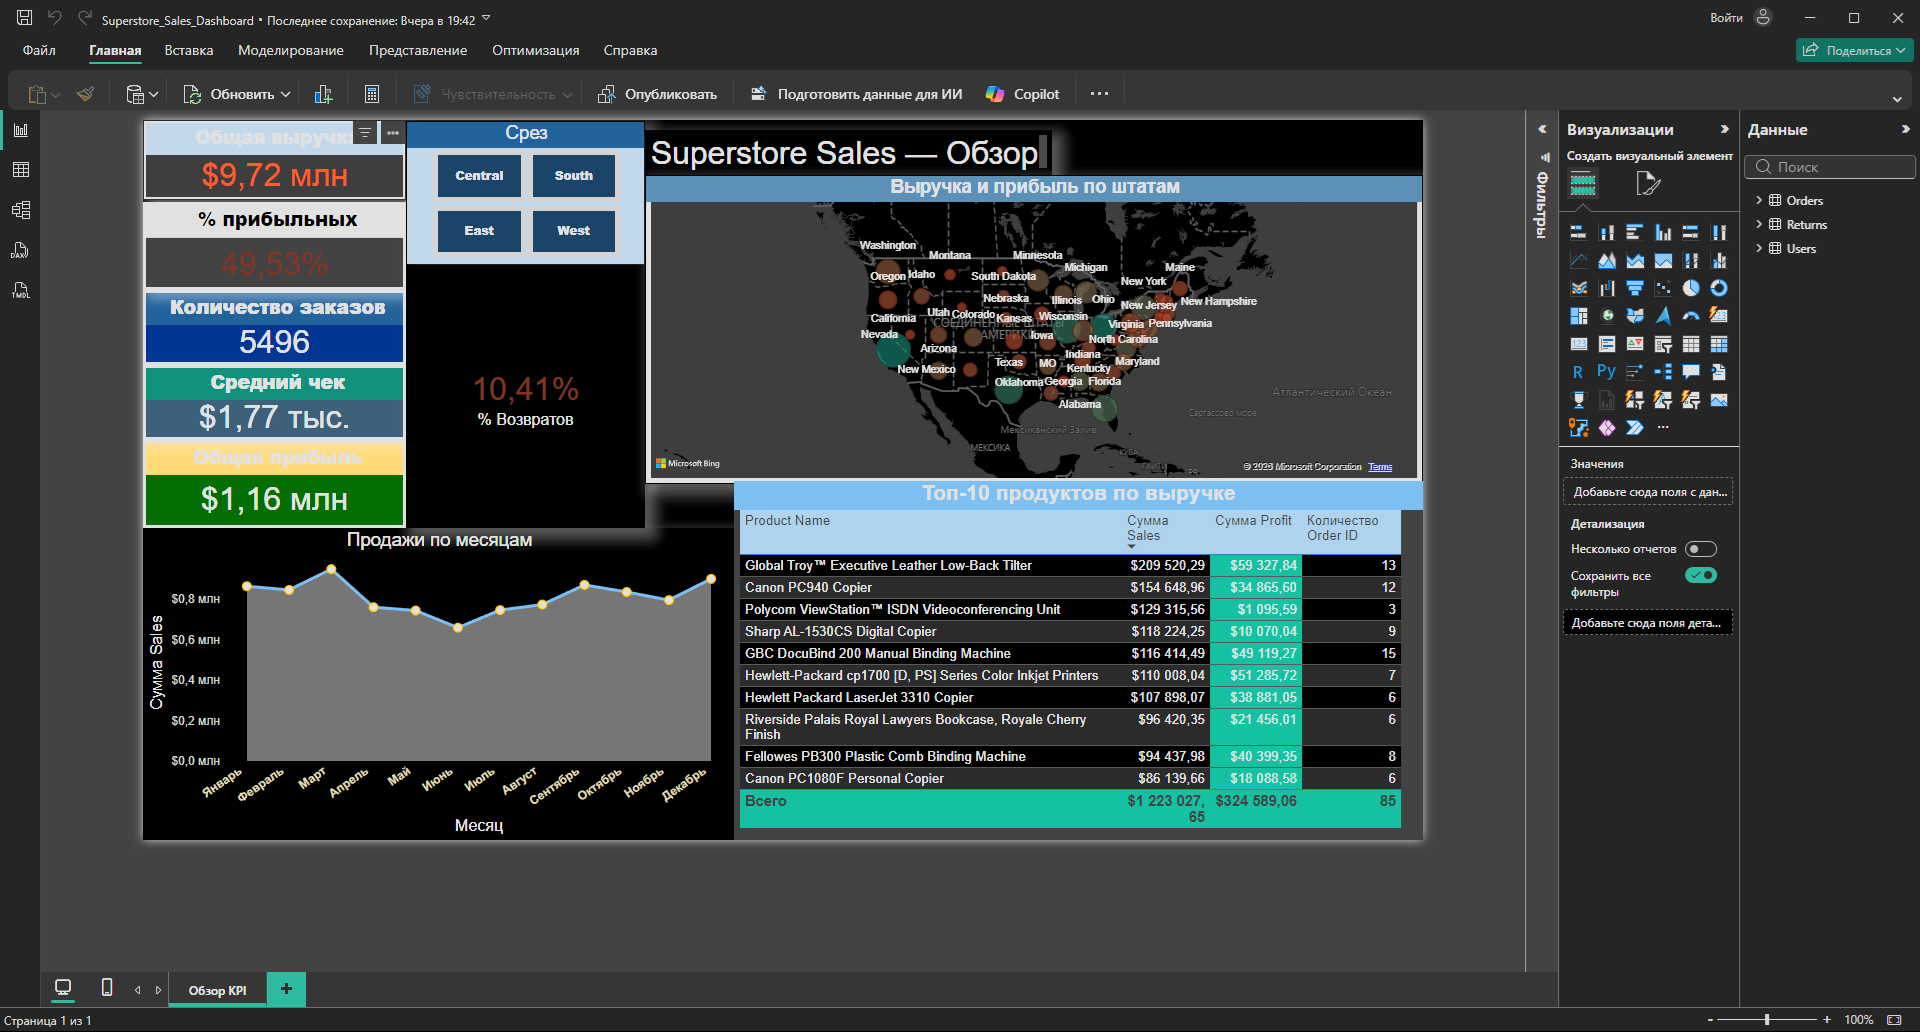

What the dashboard file says about the page in this screenshot:
{"tool":"powerbi","page":{"name":"Обзор KPI","canvas":[1280,720],"ordinal":0},"visuals":[{"type":"card","title":"Общая выручка","fields":{"Values":["Sum(Orders.Sales)"]},"box":[0,0,263,80],"z":0},{"type":"card","title":"Общая прибыль","fields":{"Values":["Sum(Orders.Profit)"]},"box":[0,320,263,88],"z":1000},{"type":"card","title":"Количество заказов","fields":{"Values":["CountNonNull(Orders.Order ID)"]},"box":[0,170,263,75],"z":2000},{"type":"card","title":"% прибыльных","fields":{"Values":["Orders.Мера"]},"box":[0,82,263,88],"z":3000},{"type":"card","title":"Средний чек","fields":{"Values":["Avg(Orders.Sales)"]},"box":[0,245,263,75],"z":4000},{"type":"slicer","title":"Срез ","fields":{"Values":["Orders.Region"]},"box":[263,1,239,144],"z":5000},{"type":"textbox","box":[502.5,10.3,406.1,44.9],"z":6000},{"type":"lineChart","title":"Продажи по месяцам","fields":{"Category":["Orders.Order Date.Изменение.Иерархия дат.Месяц"],"Y":["Sum(Orders.Sales)"]},"box":[0,408,591,312],"z":7000},{"type":"card","fields":{"Values":["Orders.% Возвратов"]},"box":[263,145,239,263],"z":8000},{"type":"map","title":"Выручка и прибыль по штатам","fields":{"Category":["Orders.State"],"Size":["Sum(Orders.Sales)"]},"box":[502,55,778,309],"z":9000},{"type":"tableEx","title":"Топ-10 продуктов по выручке","fields":{"Values":["Orders.Product Name","Sum(Orders.Sales)","Sum(Orders.Profit)","CountNonNull(Orders.Order ID)"]},"box":[591,361,689,359],"z":9001}]}

Visuals, with their boxes on the page's 1280x720 design canvas (x1, y1, x2, y2). These are canvas units, not pixel positions in the 1920x1032 screenshot, which may show the page scaled, cropped or inside an application window:
"Общая выручка" card: {"x1": 0, "y1": 0, "x2": 263, "y2": 80}
"Общая прибыль" card: {"x1": 0, "y1": 320, "x2": 263, "y2": 408}
"Количество заказов" card: {"x1": 0, "y1": 170, "x2": 263, "y2": 245}
"% прибыльных" card: {"x1": 0, "y1": 82, "x2": 263, "y2": 170}
"Средний чек" card: {"x1": 0, "y1": 245, "x2": 263, "y2": 320}
"Срез " slicer: {"x1": 263, "y1": 1, "x2": 502, "y2": 145}
textbox: {"x1": 502, "y1": 10, "x2": 909, "y2": 55}
"Продажи по месяцам" lineChart: {"x1": 0, "y1": 408, "x2": 591, "y2": 720}
card - Orders.% Возвратов: {"x1": 263, "y1": 145, "x2": 502, "y2": 408}
"Выручка и прибыль по штатам" map: {"x1": 502, "y1": 55, "x2": 1280, "y2": 364}
"Топ-10 продуктов по выручке" tableEx: {"x1": 591, "y1": 361, "x2": 1280, "y2": 720}
